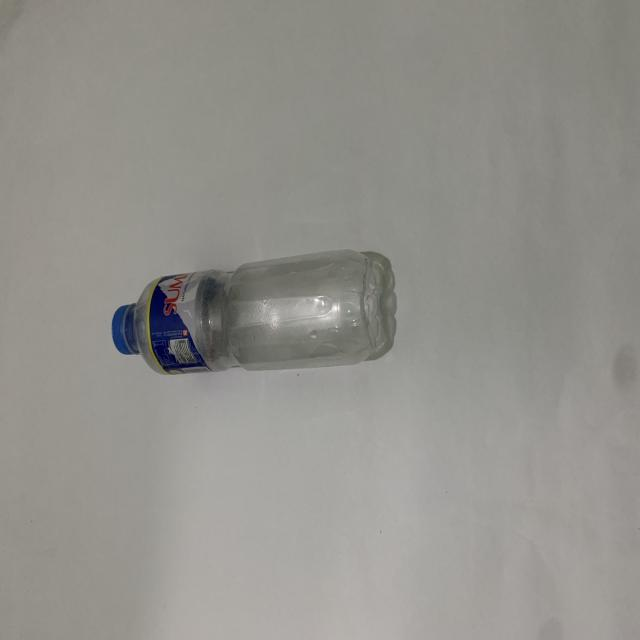bottle: (103, 202, 406, 387)
